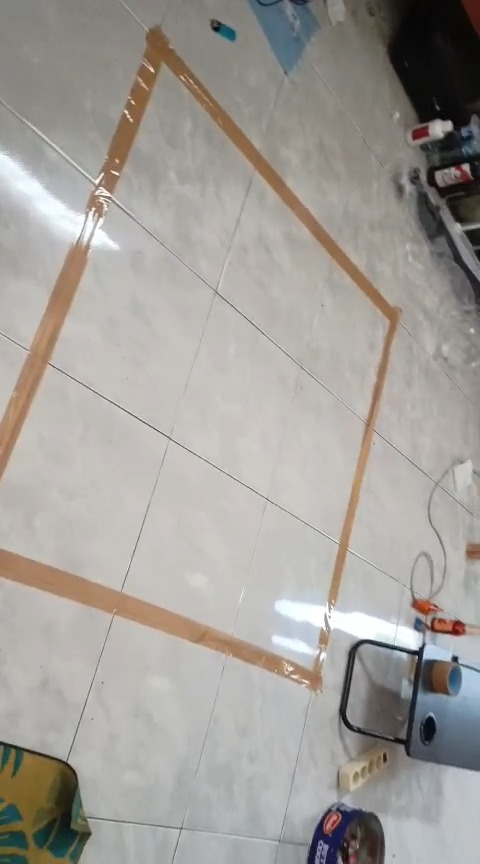floor marking: (0, 28, 400, 690)
